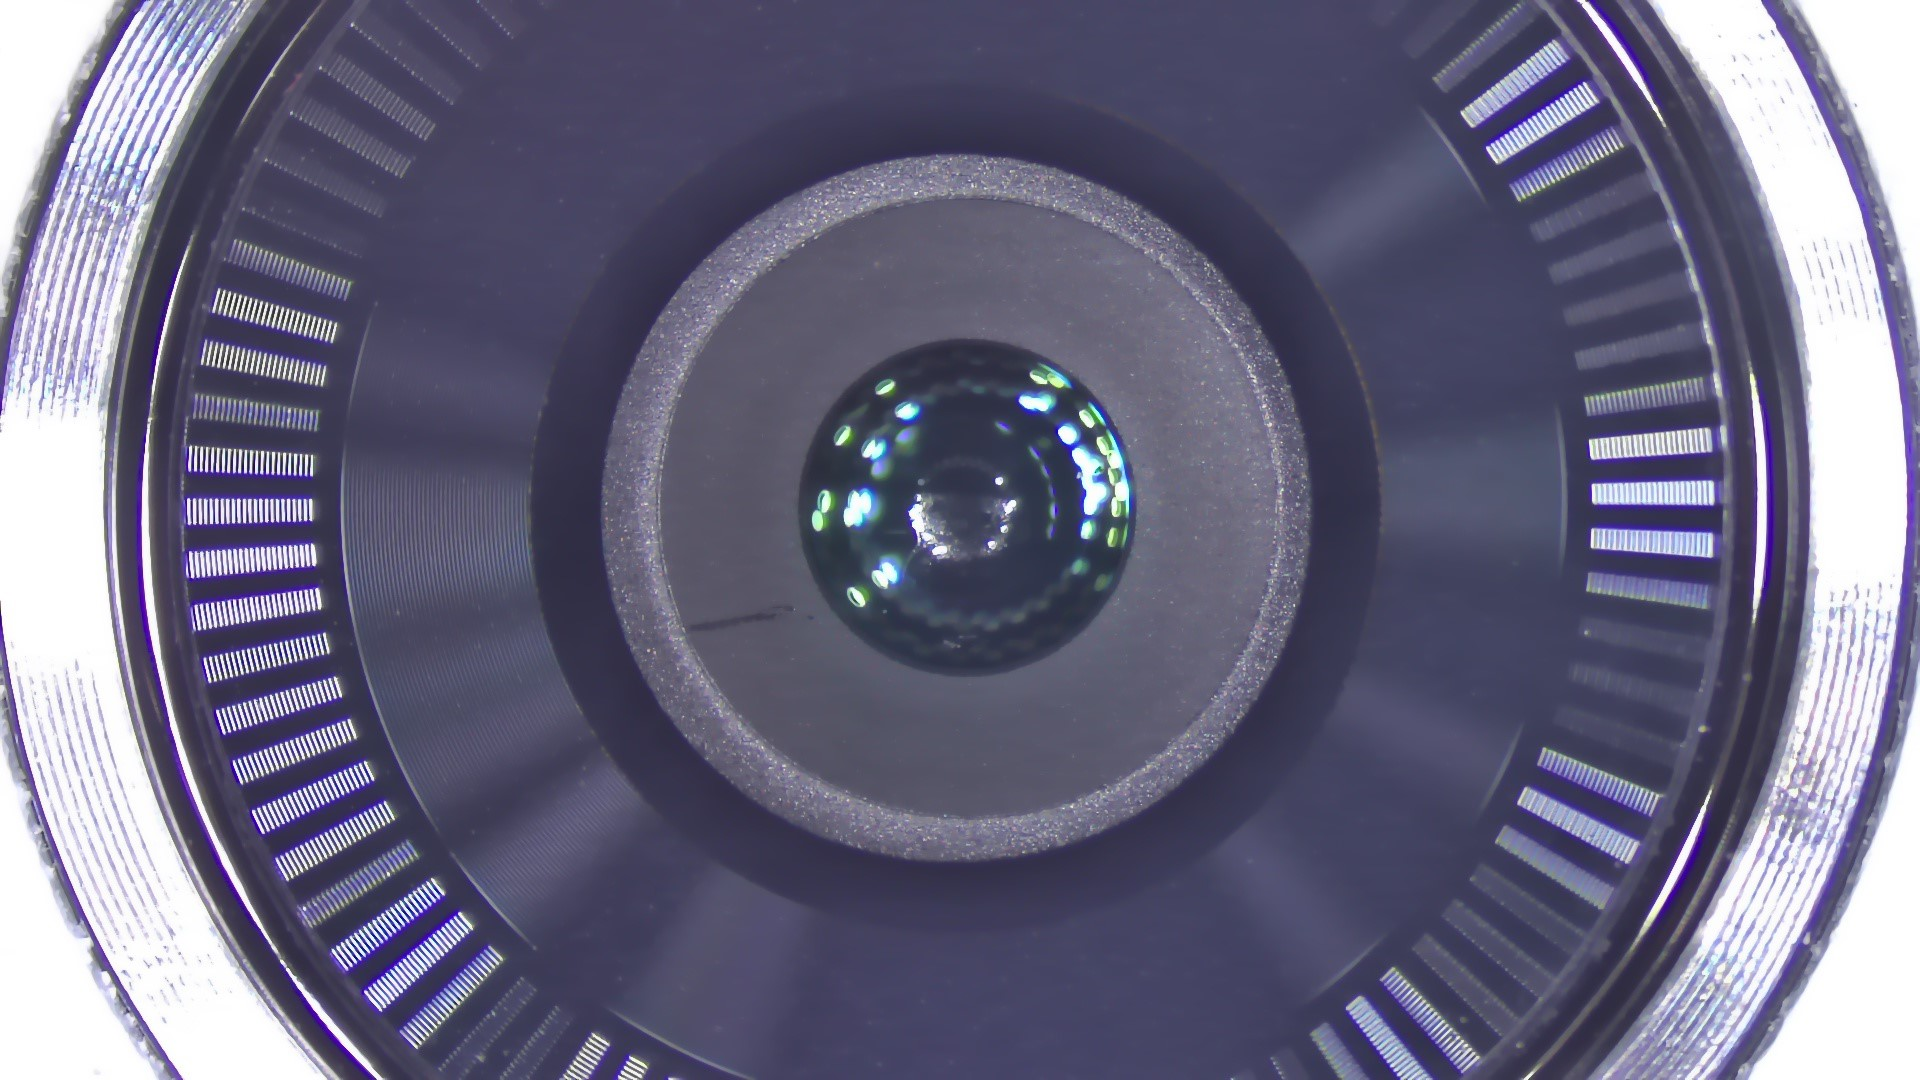crack: (663, 582, 824, 650)
